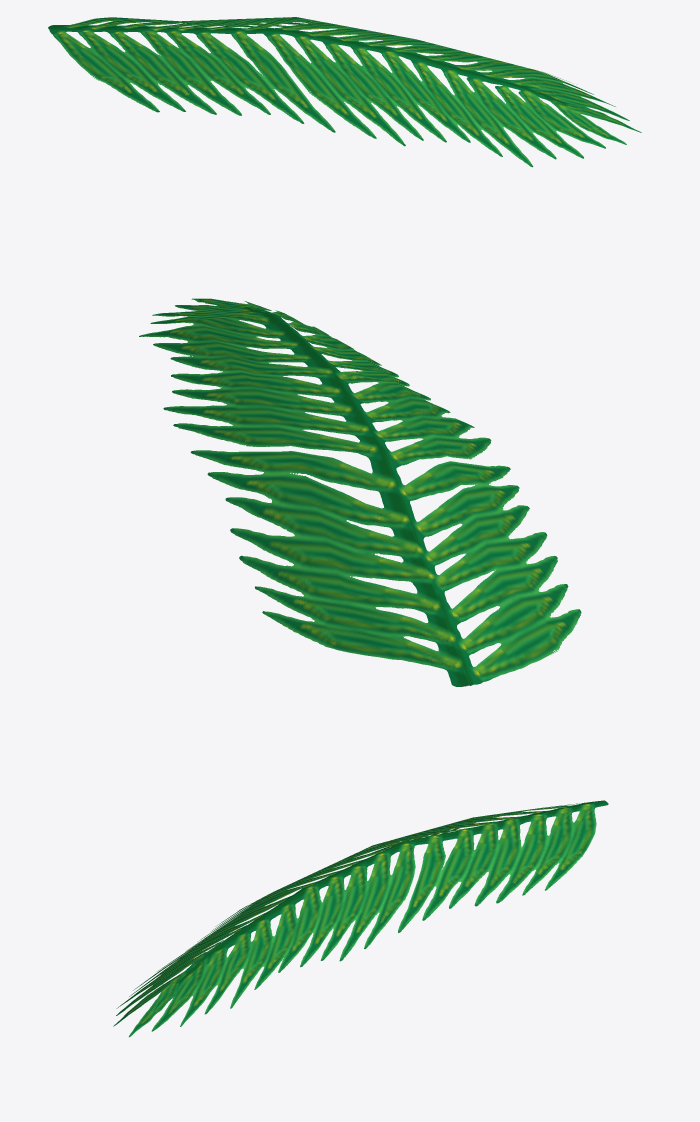
File: leaf.fbx
3 renders of one model, top to bottom at view 1: azimuth 30°, elevation 25°; view 2: azimuth 150°, elevation 25°; view 3: azimuth 270°, elevation 25°, orthographic. The views are drawn at different scales.
Parts seen in each view (by area): view 1: polySurface124; view 2: polySurface124; view 3: polySurface124.
Boxes of the visible parts, <box> form: polySurface124: <box>48,17,641,167</box>; polySurface124: <box>139,298,581,686</box>; polySurface124: <box>113,800,608,1037</box>.
Size of the model in its own units: 5.78 by 1.47 by 5.93.
